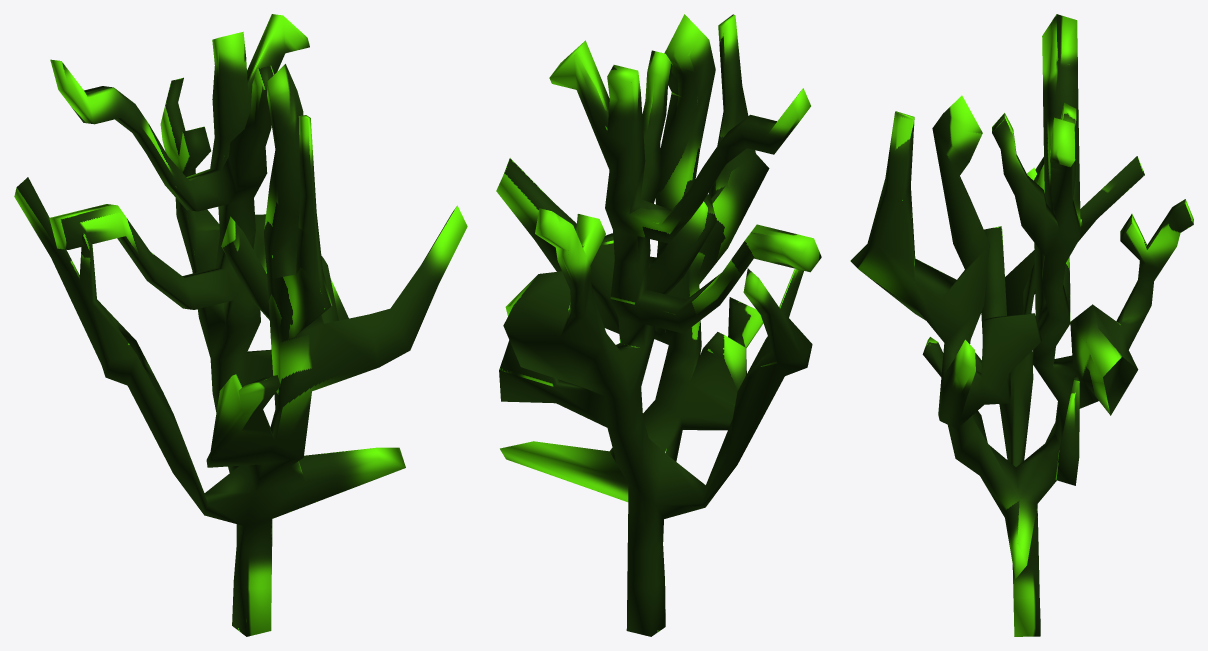
The model's file is plante2.fbx.
3 renders of one model, left to right at view 1: azimuth 30°, elevation 25°; view 2: azimuth 150°, elevation 25°; view 3: azimuth 270°, elevation 25°, orthographic. The views are drawn at different scales.
Parts seen in each view (by area): view 1: Cube.001; view 2: Cube.001; view 3: Cube.001.
Part boxes in pixels (x1,y1,x2,y2): Cube.001: (14,14,467,636); Cube.001: (496,14,821,636); Cube.001: (850,14,1193,636).
Bounding box in the file's own units: 2929 × 4653 × 2680.
Materials: 1 (1 with a texture image).
